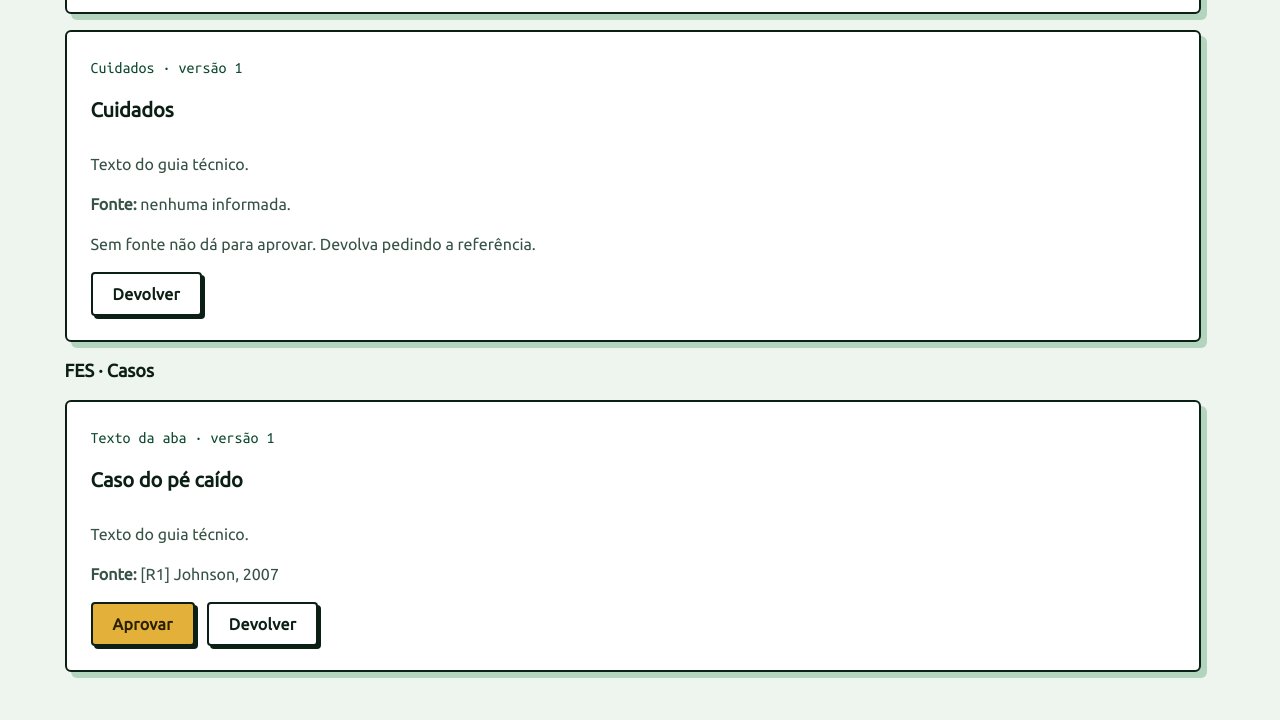
Scenario: deveExigirOMotivoParaDevolver
This screenshot has width=1280, height=720.
(page scrolled)
Click the button with aria-label "Devolver Caso do pé caído" at (262, 624), box top-left (207, 602), bottom-right (318, 646)
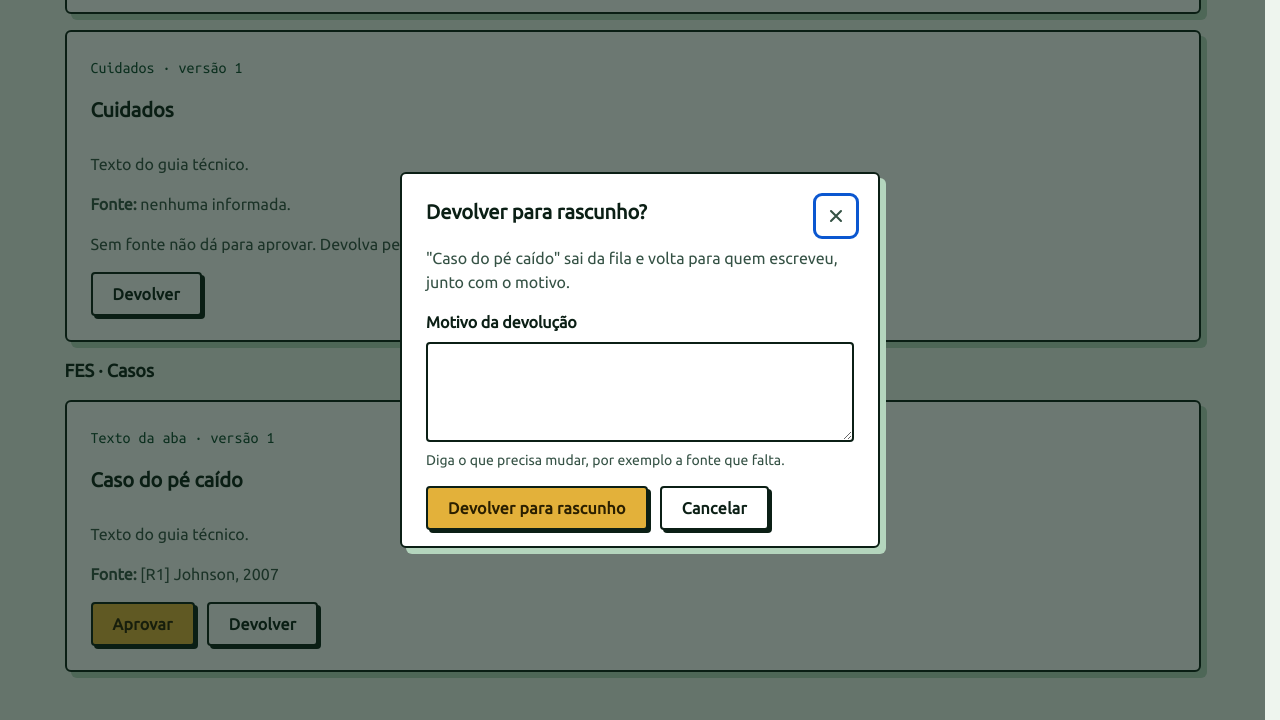
Click the button "Devolver para rascunho" at (537, 508), box top-left (426, 486), bottom-right (648, 530)
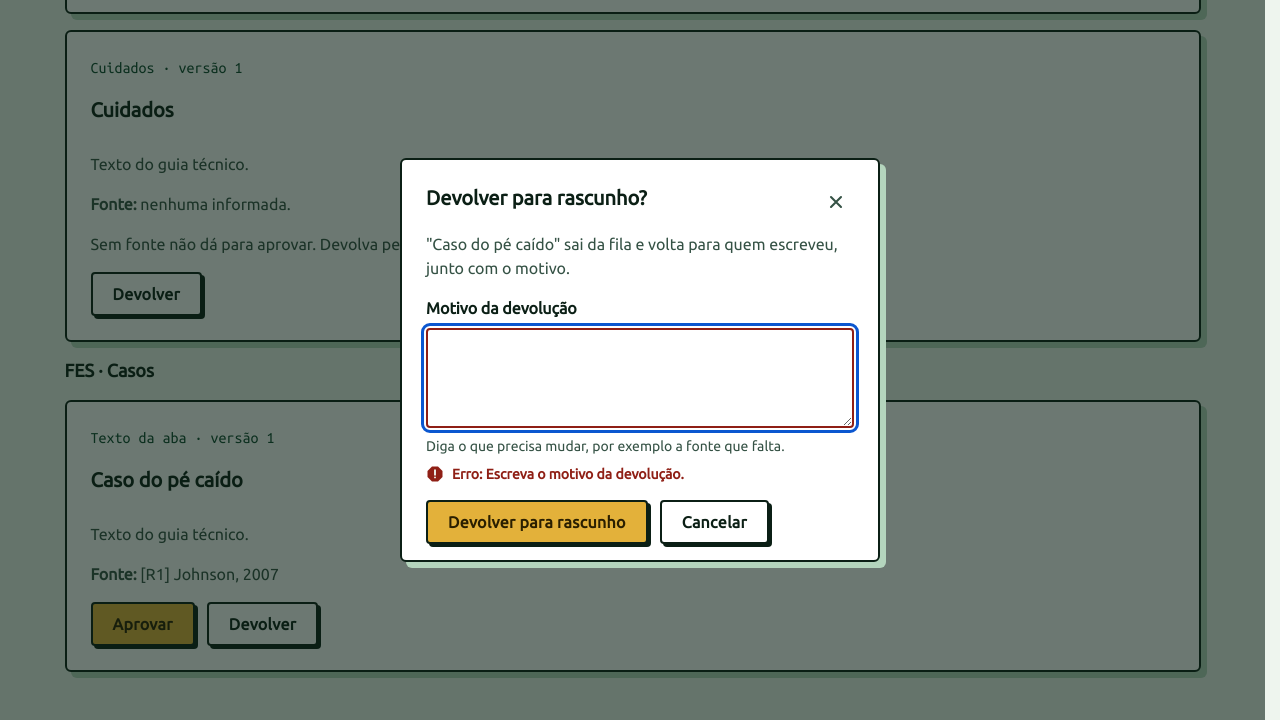
Result: the text "Escreva o motivo da devolução." is shown at top-left (486, 466), bottom-right (684, 482)
